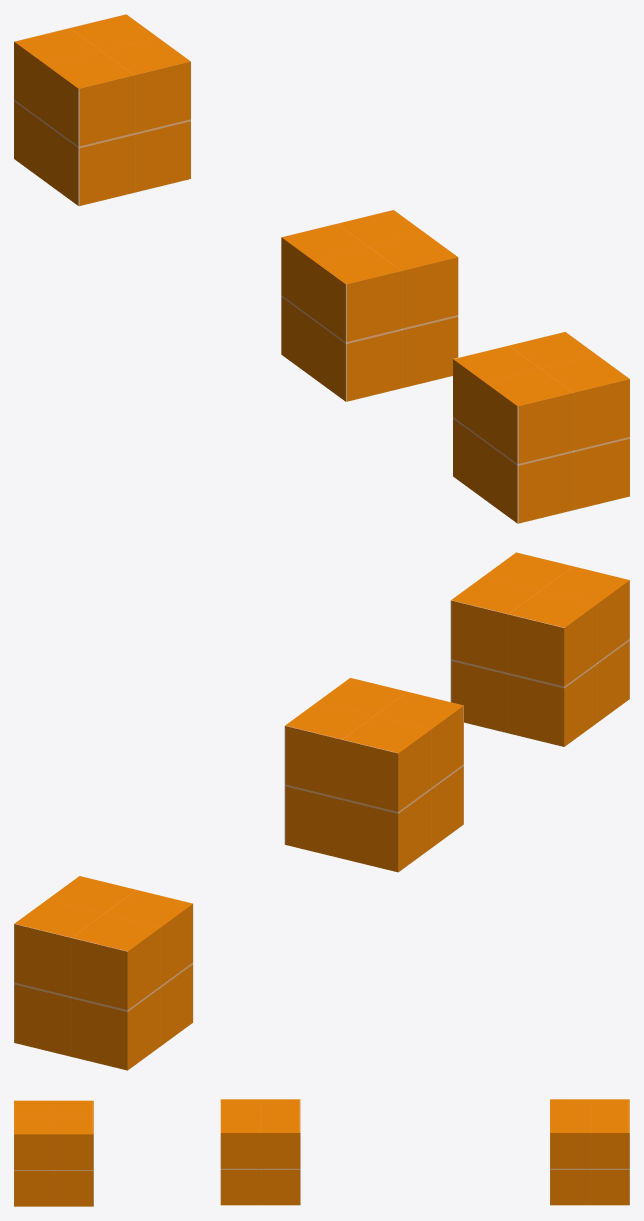
The model's file is Debug_Scene.gltf.
The picture shows the model from 3 angles, top to bottom: view 1: azimuth 30°, elevation 25°; view 2: azimuth 150°, elevation 25°; view 3: azimuth 270°, elevation 25°; orthographic projection. The views are drawn at different scales.
Parts seen in each view (by area): view 1: Cube.002, Cube, Cube.001; view 2: Cube.001, Cube.002, Cube; view 3: Cube.002, Cube, Cube.001.
Boxes of the visible parts, x1=… form: Cube.002: x1=281, y1=209, x2=458, y2=401; Cube: x1=453, y1=331, x2=629, y2=523; Cube.001: x1=14, y1=14, x2=190, y2=206; Cube.001: x1=14, y1=876, x2=193, y2=1070; Cube.002: x1=284, y1=678, x2=463, y2=872; Cube: x1=450, y1=552, x2=629, y2=746; Cube.002: x1=220, y1=1099, x2=300, y2=1205; Cube: x1=14, y1=1100, x2=93, y2=1206; Cube.001: x1=550, y1=1099, x2=629, y2=1205.
Size of what is drawn, in the model's own units: 2.07 by 2 by 15.43.
1 material, 1 textured.
